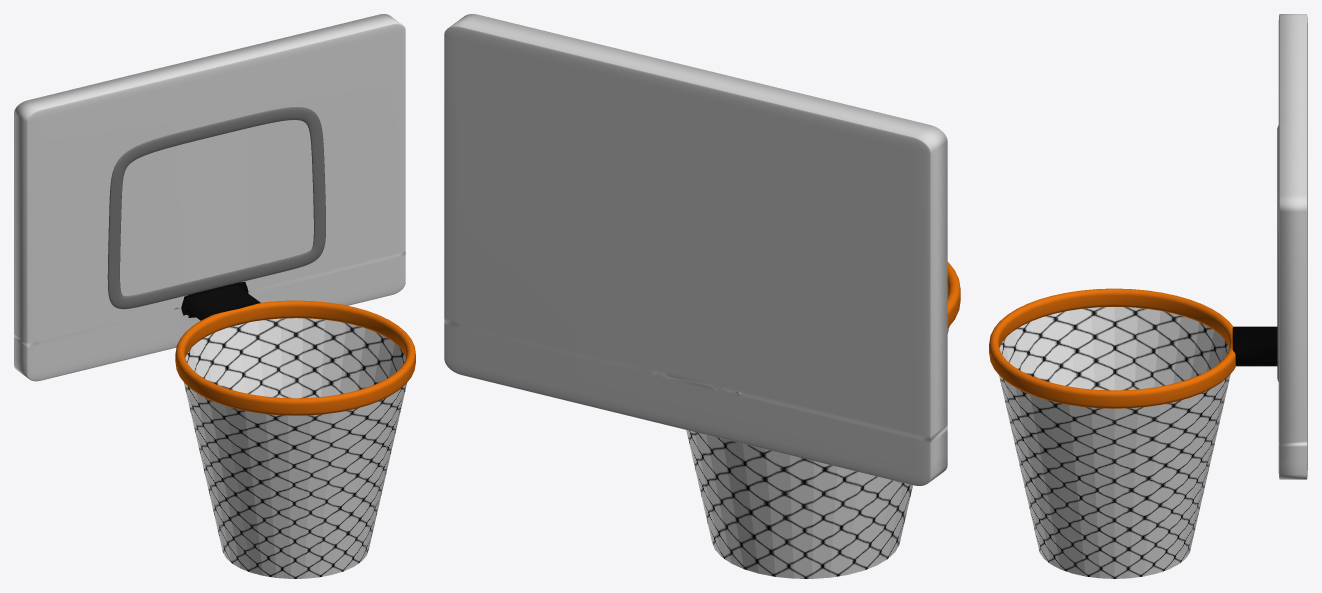
The model's file is bball.fbx.
The picture shows the model from 3 angles, left to right: view 1: azimuth 30°, elevation 25°; view 2: azimuth 150°, elevation 25°; view 3: azimuth 270°, elevation 25°; orthographic projection. The views are drawn at different scales.
Parts seen in each view (by area): view 1: Cube, Cylinder, BezierCircle, NurbsPath; view 2: Cube, Cylinder, BezierCircle; view 3: Cylinder, Cube, BezierCircle, NurbsPath.
Boxes of the visible parts, x1,y1,x2,y2 form: Cube: [14, 14, 405, 381]; Cylinder: [184, 318, 406, 578]; BezierCircle: [175, 300, 415, 415]; NurbsPath: [107, 107, 325, 309]; Cube: [444, 14, 947, 485]; Cylinder: [686, 294, 949, 578]; BezierCircle: [947, 262, 960, 327]; Cylinder: [999, 307, 1230, 578]; Cube: [1232, 14, 1307, 479]; BezierCircle: [989, 288, 1235, 408]; NurbsPath: [1277, 125, 1278, 381].
Size of the model in its own units: 378 by 404 by 265.
